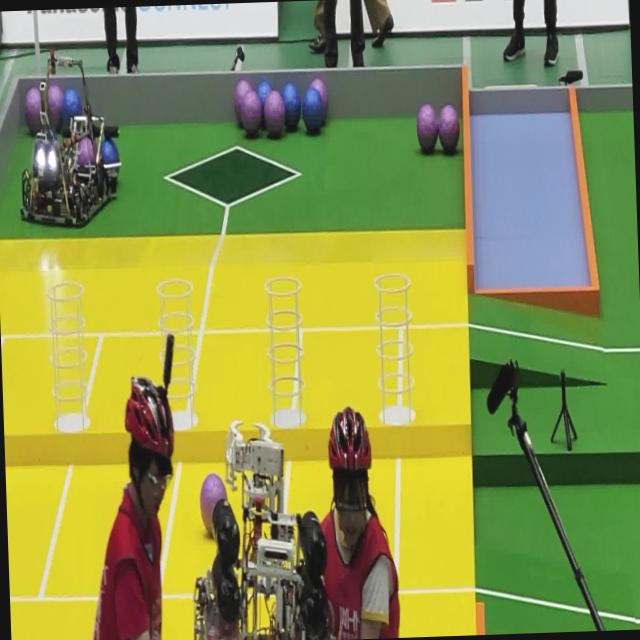blue_ball: (59, 86, 82, 132), (282, 83, 302, 131), (302, 94, 322, 139), (99, 138, 120, 178), (256, 78, 272, 99)
purple_ball: (199, 473, 228, 534), (437, 103, 461, 156), (416, 104, 438, 154), (24, 87, 42, 137), (240, 96, 262, 136), (263, 98, 285, 136), (46, 84, 62, 134), (235, 78, 253, 122), (78, 137, 96, 169), (321, 76, 332, 126)
